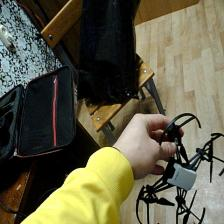drone: (134, 111, 224, 224)
